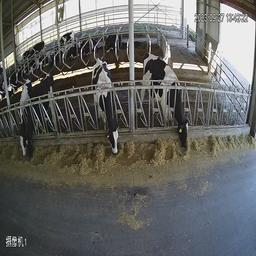cow: (140, 45, 192, 163), (25, 72, 65, 165), (90, 53, 122, 158), (12, 73, 33, 171), (102, 27, 121, 49), (56, 26, 75, 46), (79, 30, 95, 49)
